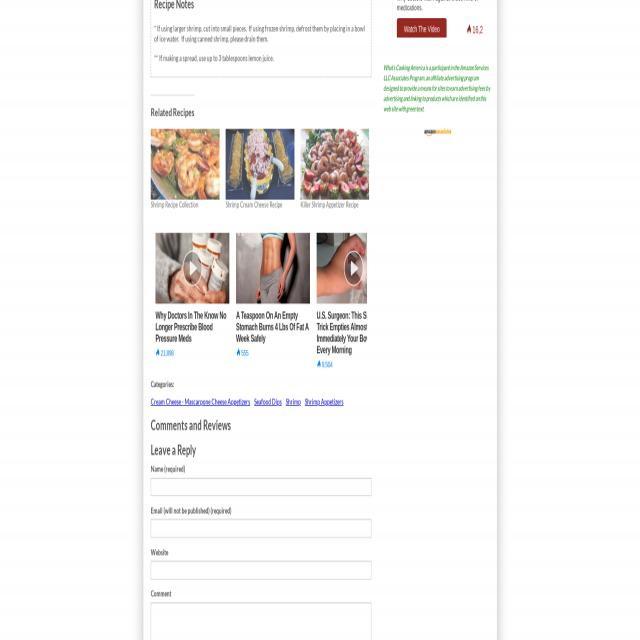button: (155, 232, 230, 303), (237, 233, 310, 305), (150, 128, 220, 200), (300, 128, 370, 200), (226, 128, 294, 200), (318, 231, 367, 303), (423, 118, 453, 146)
field: (150, 603, 371, 640), (151, 478, 371, 496), (151, 520, 371, 538), (151, 561, 371, 579)
